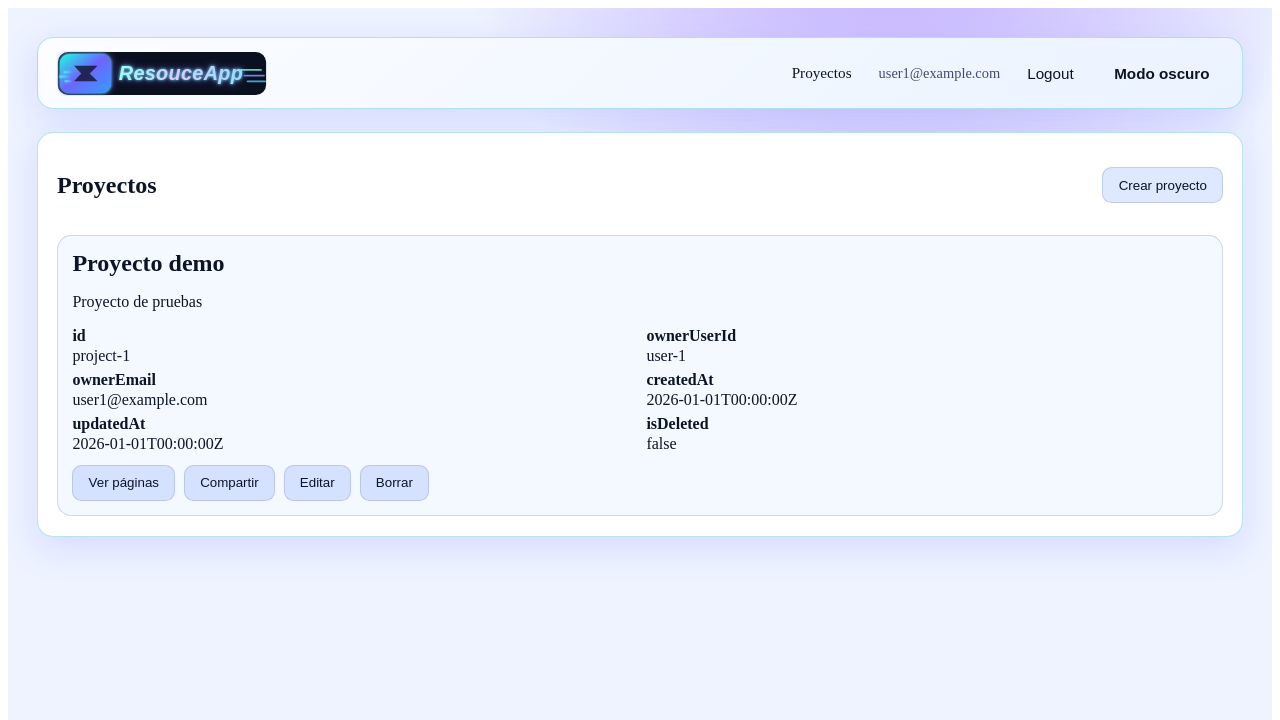
Test case: App Home/Login/Projects flow › renders projects for authenticated user and allows logout
The image size is (1280, 720).
Expected: the heading "Proyectos" is shown, [57,172,156,199]
Expected: the button "Crear proyecto" is shown, [1102,167,1223,204]
Click the button "Logout" at (1050, 73), box [1014,56,1087,91]
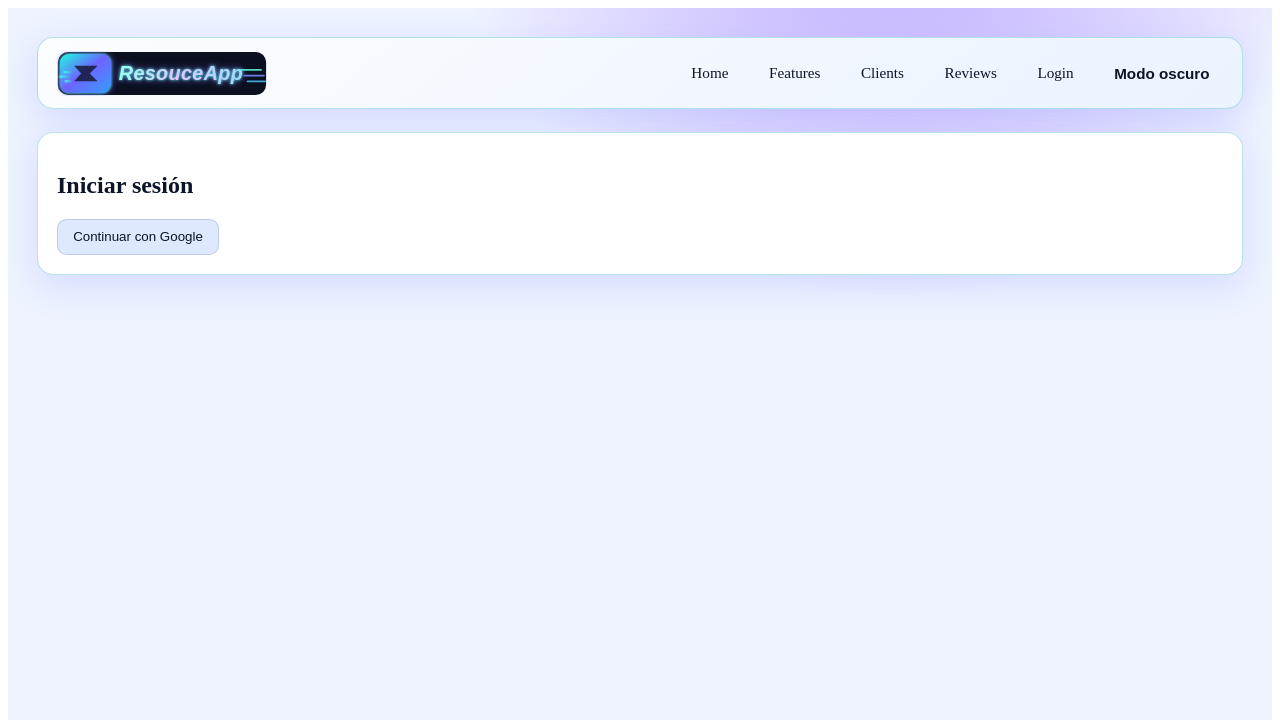
Expected: the heading "Iniciar sesión" is shown, [57,172,193,198]
